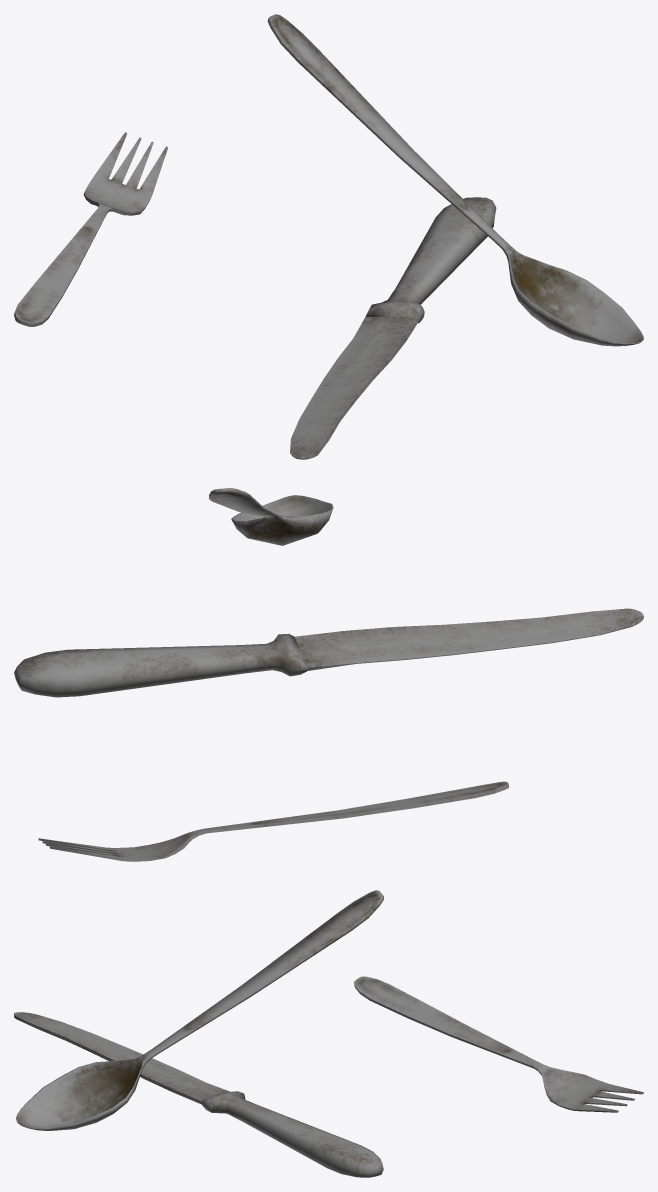
Rendered from SM_Spoon01SET01.FBX.
The picture shows the model from 3 angles, top to bottom: view 1: azimuth 30°, elevation 25°; view 2: azimuth 150°, elevation 25°; view 3: azimuth 270°, elevation 25°; orthographic projection. The views are drawn at different scales.
Visible parts, largest first — view 1: SM_Spoon01SET01_LOD0; view 2: SM_Spoon01SET01_LOD0; view 3: SM_Spoon01SET01_LOD0.
Boxes of the visible parts, box(x1,y1,x2,y2) form: SM_Spoon01SET01_LOD0: box(14, 14, 643, 459); SM_Spoon01SET01_LOD0: box(14, 488, 643, 861); SM_Spoon01SET01_LOD0: box(14, 890, 643, 1177).
Size of the model in its own units: 23.01 by 31.69 by 12.36.
